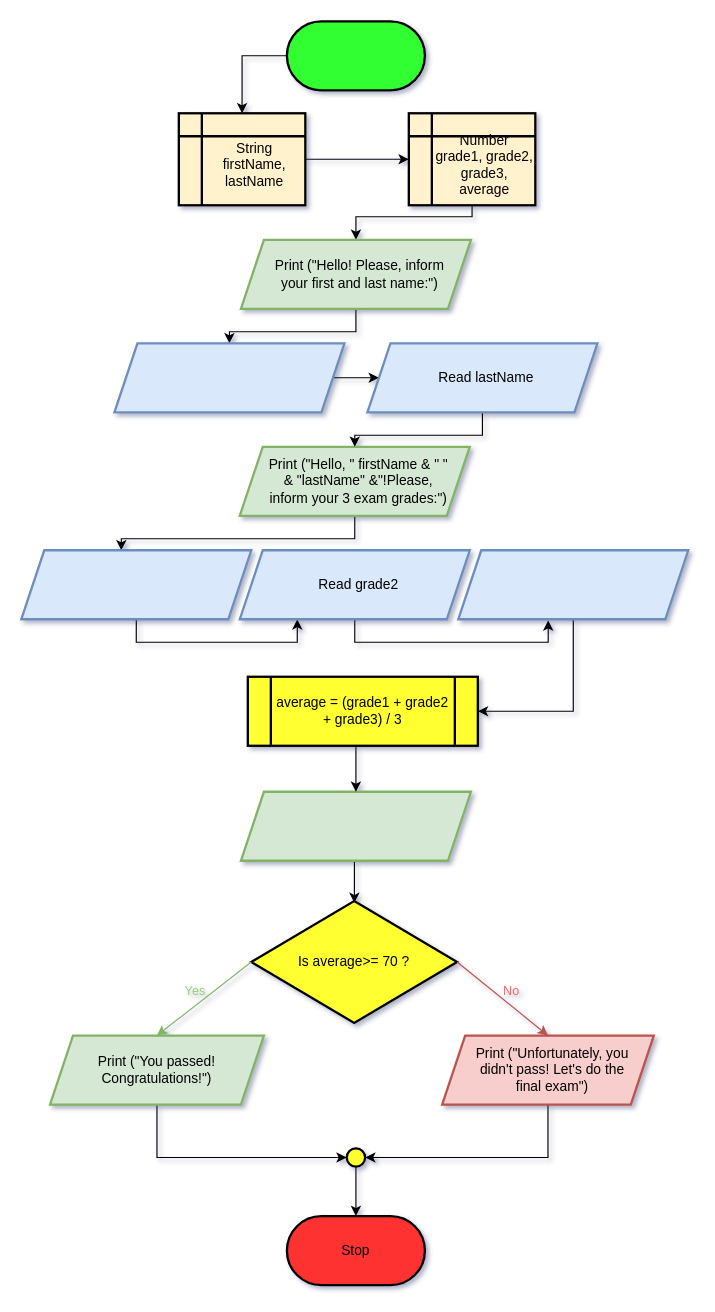
Image size: 715x1312. Some labels were removed from this diagram. Here are the shapes that lost their labels. From the top down, the box of each, then its label:
(285, 20, 425, 91): Start
(113, 342, 345, 413): Read firstName
(20, 549, 252, 620): Read grade1
(457, 549, 689, 620): Read grade3
(239, 790, 471, 861): Print ("Okay, " & firstName & "." & "You scored " & average & " !")
